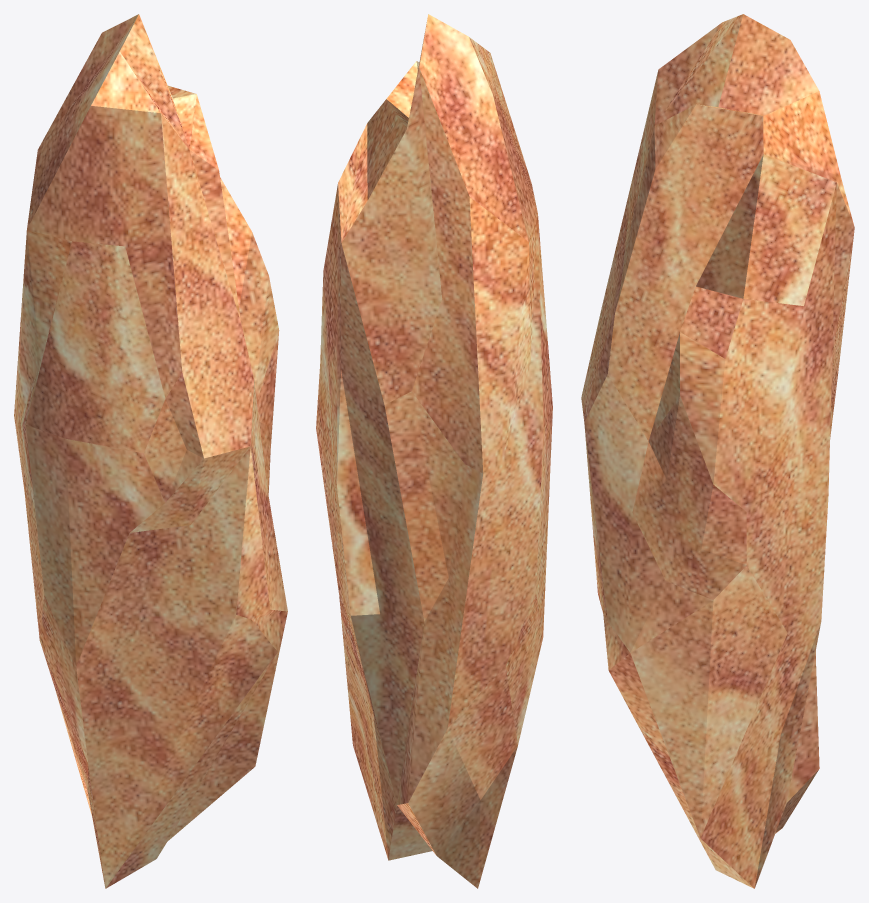
File: boulder-tall-n.glb
3 renders of one model, left to right at view 1: azimuth 30°, elevation 25°; view 2: azimuth 150°, elevation 25°; view 3: azimuth 270°, elevation 25°, orthographic. The views are drawn at different scales.
Visible parts, largest first — view 1: Dodecahedron_n3d; view 2: Dodecahedron_n3d; view 3: Dodecahedron_n3d.
Boxes of the visible parts, x1,y1,x2,y2 form: Dodecahedron_n3d: (14, 14, 287, 888); Dodecahedron_n3d: (316, 14, 552, 888); Dodecahedron_n3d: (581, 14, 854, 888).
Size of the model in its own units: 0.2095 by 0.7386 by 0.2086.
Materials: 1 (1 with a texture image).
